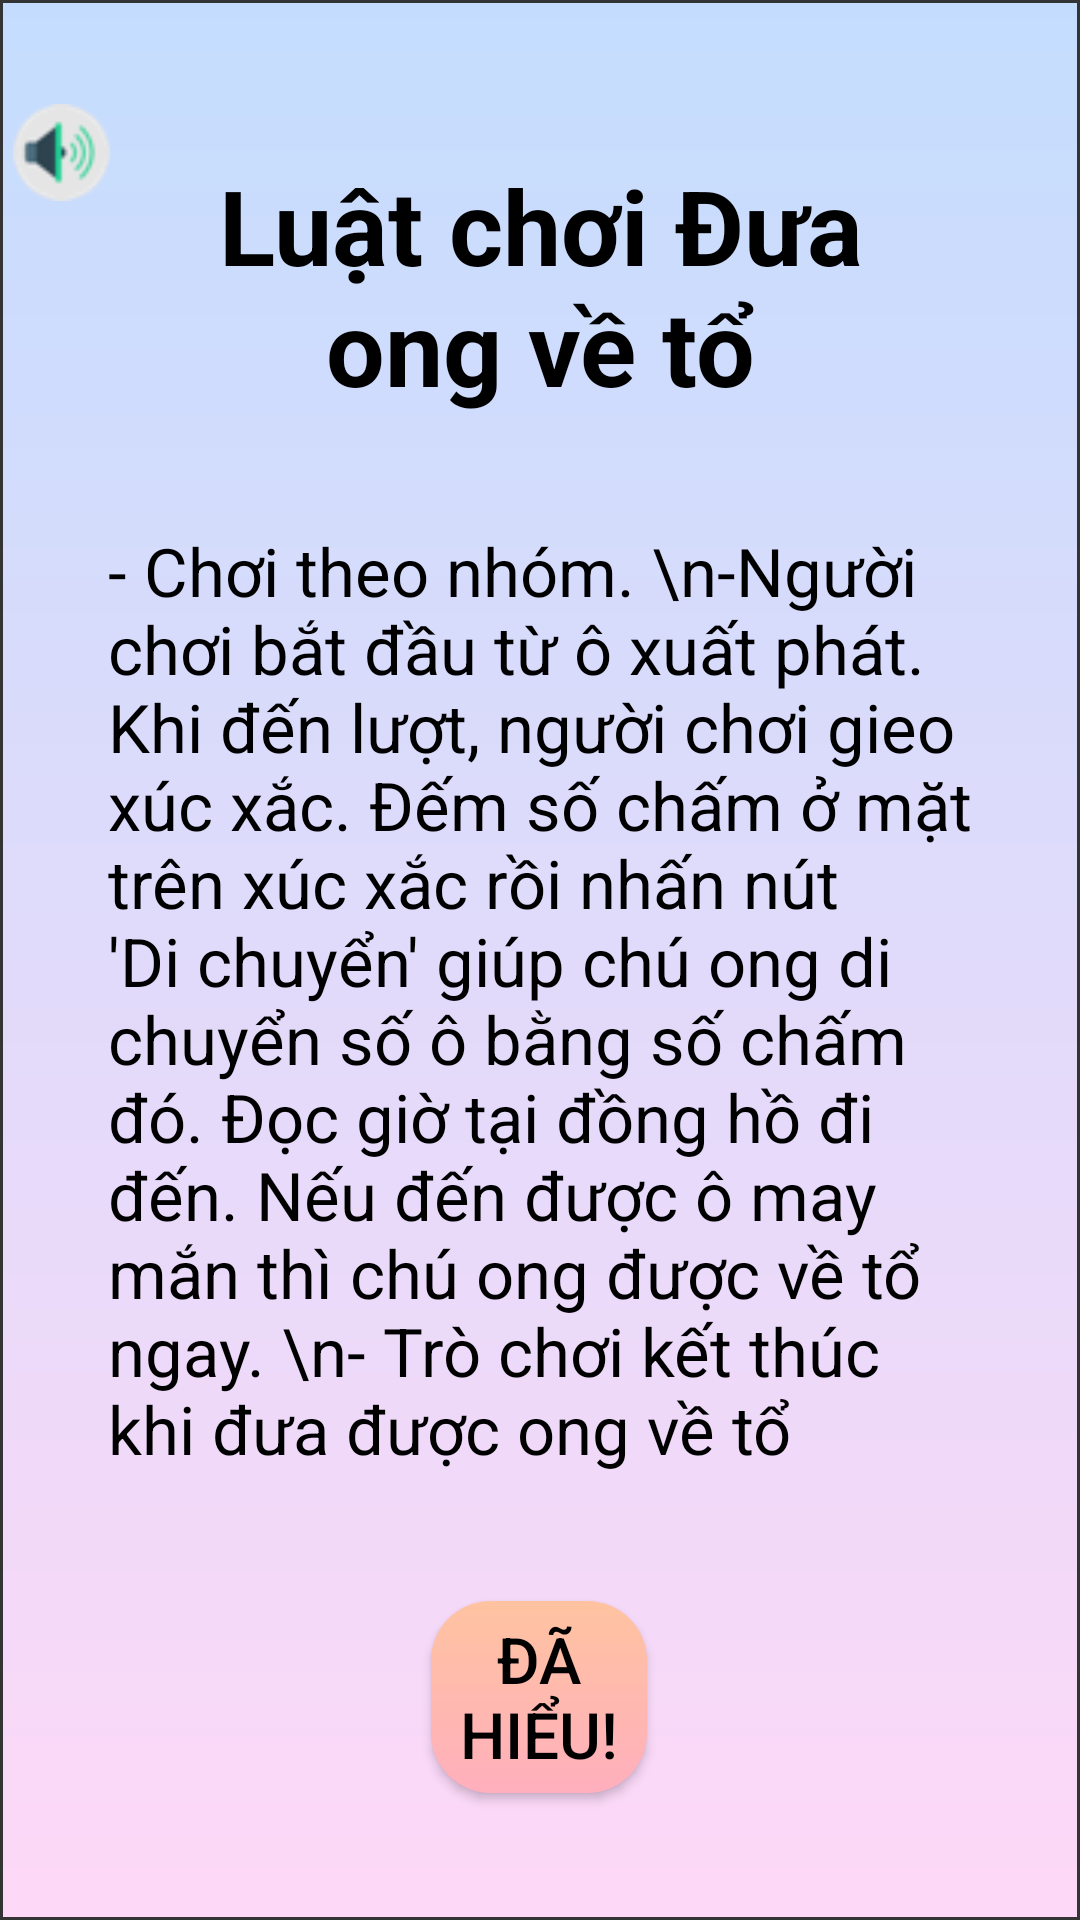

Where to tap for icons on this 1080 x 1920 app screen, as point (x, y):
sound on: point (61, 153)
